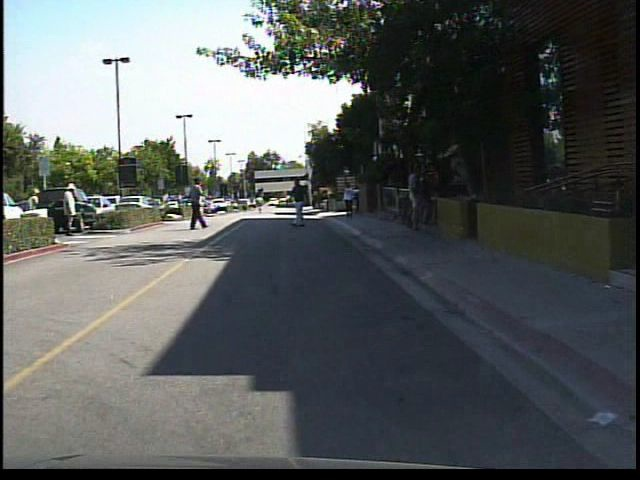person: (402, 153, 432, 237), (184, 172, 211, 233), (289, 173, 316, 231), (422, 165, 445, 232), (61, 178, 85, 239), (23, 183, 46, 240), (340, 178, 358, 224), (194, 189, 210, 219), (254, 191, 269, 214)
